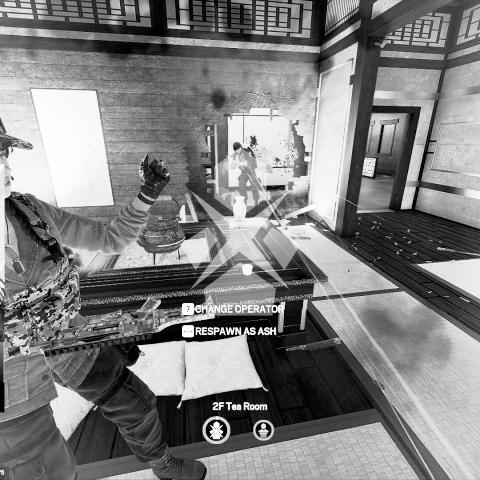Character: (0, 116, 212, 480), (231, 140, 260, 206)
Head: (0, 117, 36, 199), (232, 143, 243, 154)
